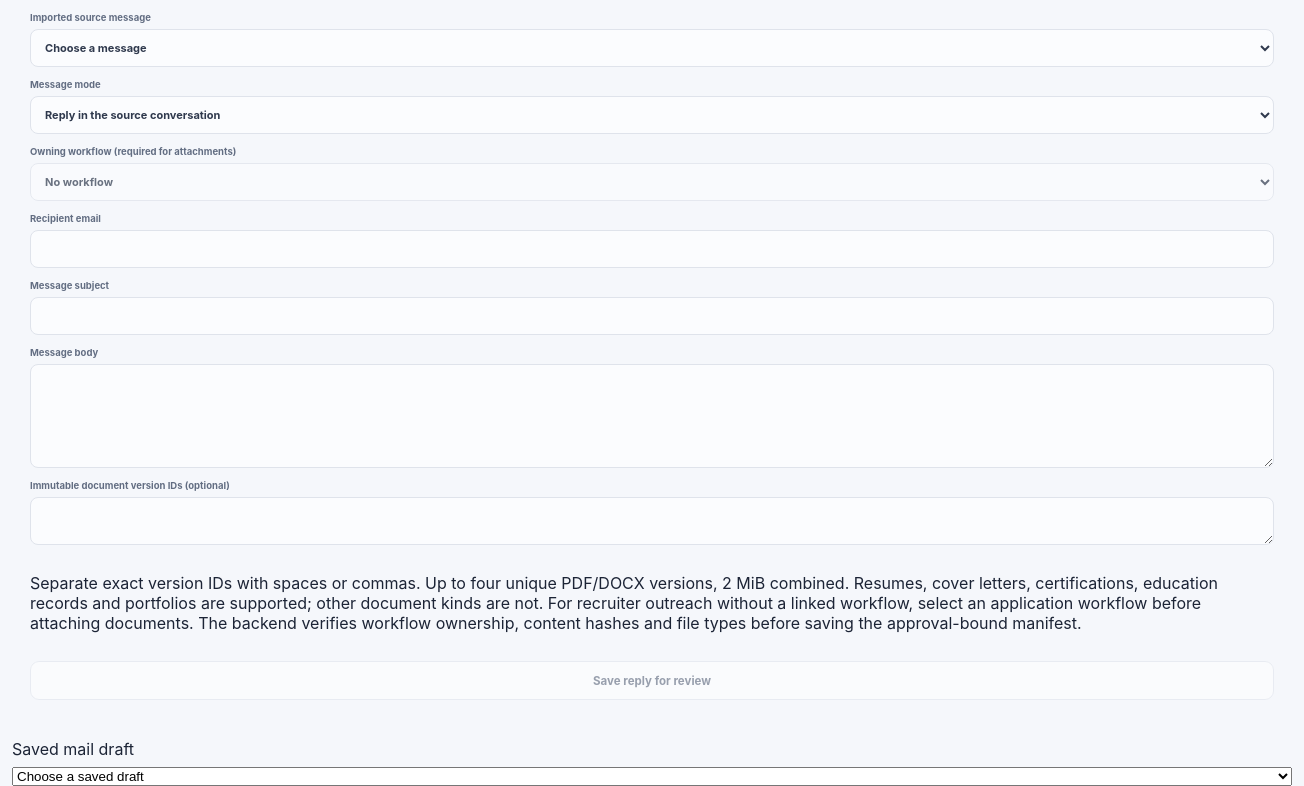
Test: MailDraftPanel › loads only draft/audit metadata; no send or draft creation on mount
(page scrolled)
Step 1. Select "GMAIL · Re: Resume request · draft-1" in the dropdown labelled "Saved mail draft" → (652, 776), box [12, 767, 1292, 785]
(page scrolled)
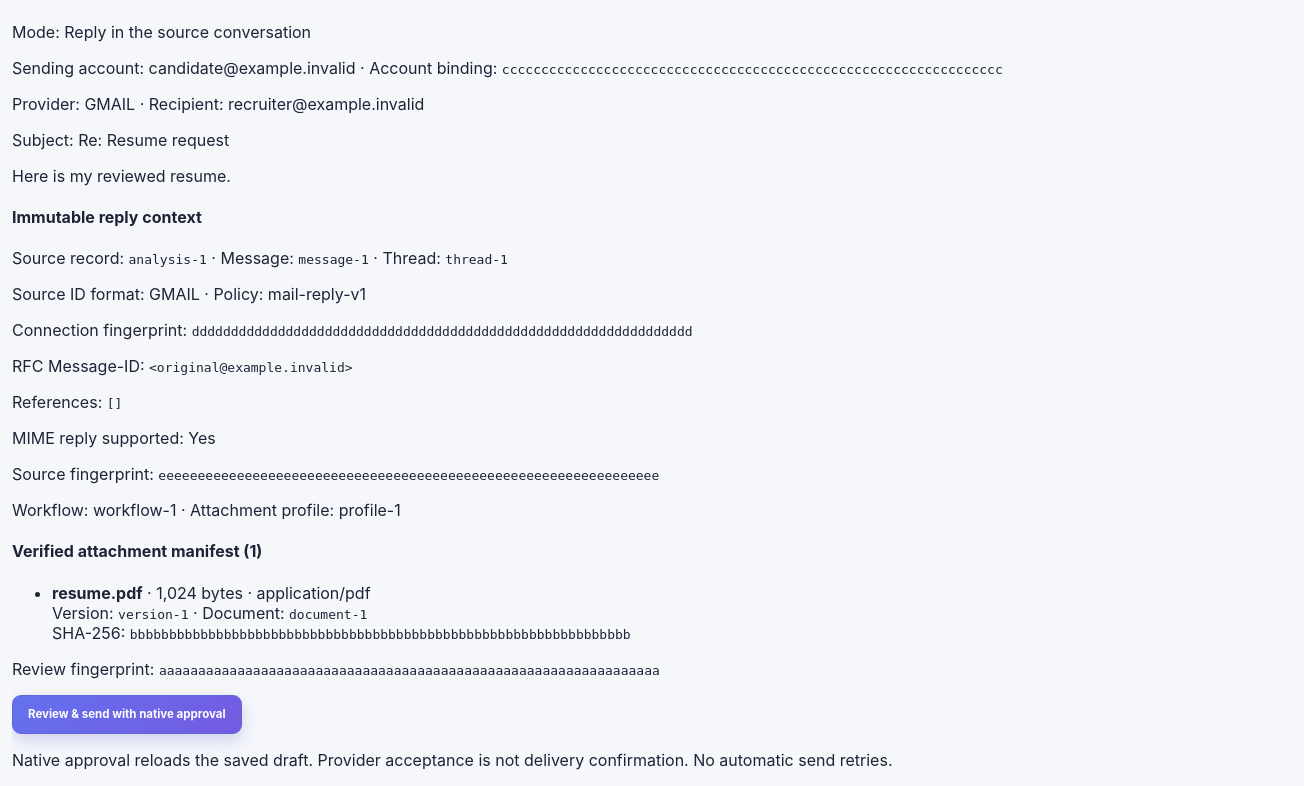
Expected: the text "resume.pdf" is shown, [52, 583, 143, 603]
Expected: the text "version-1" is shown, [118, 607, 189, 622]
Expected: the list item "1,024 bytes" is shown, [52, 583, 631, 643]
